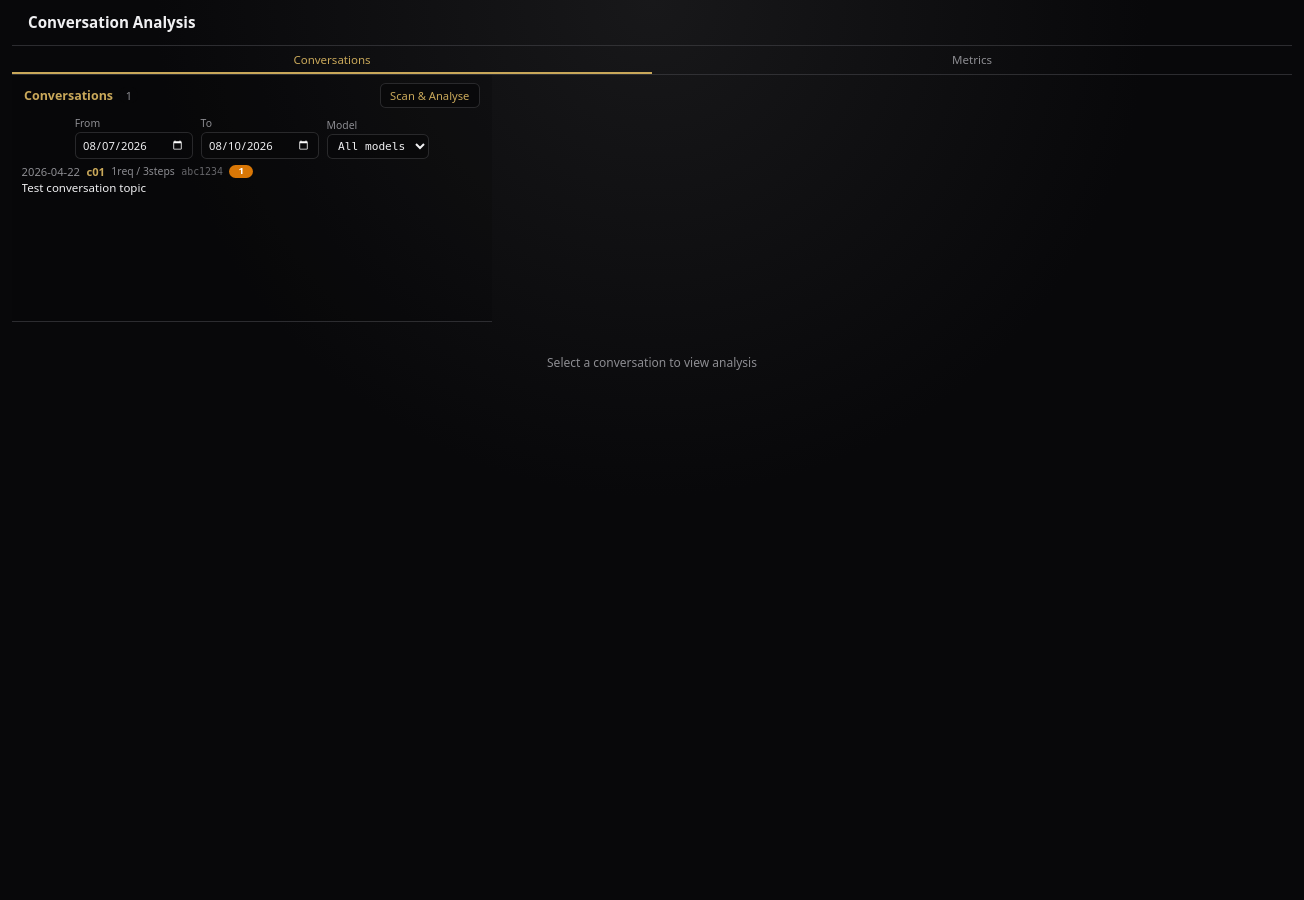
Test: 3i: dispute form accessibility › Escape key closes the open dispute form
Click the text "Test conversation topic" at (84, 188), box [22,180,146,195]
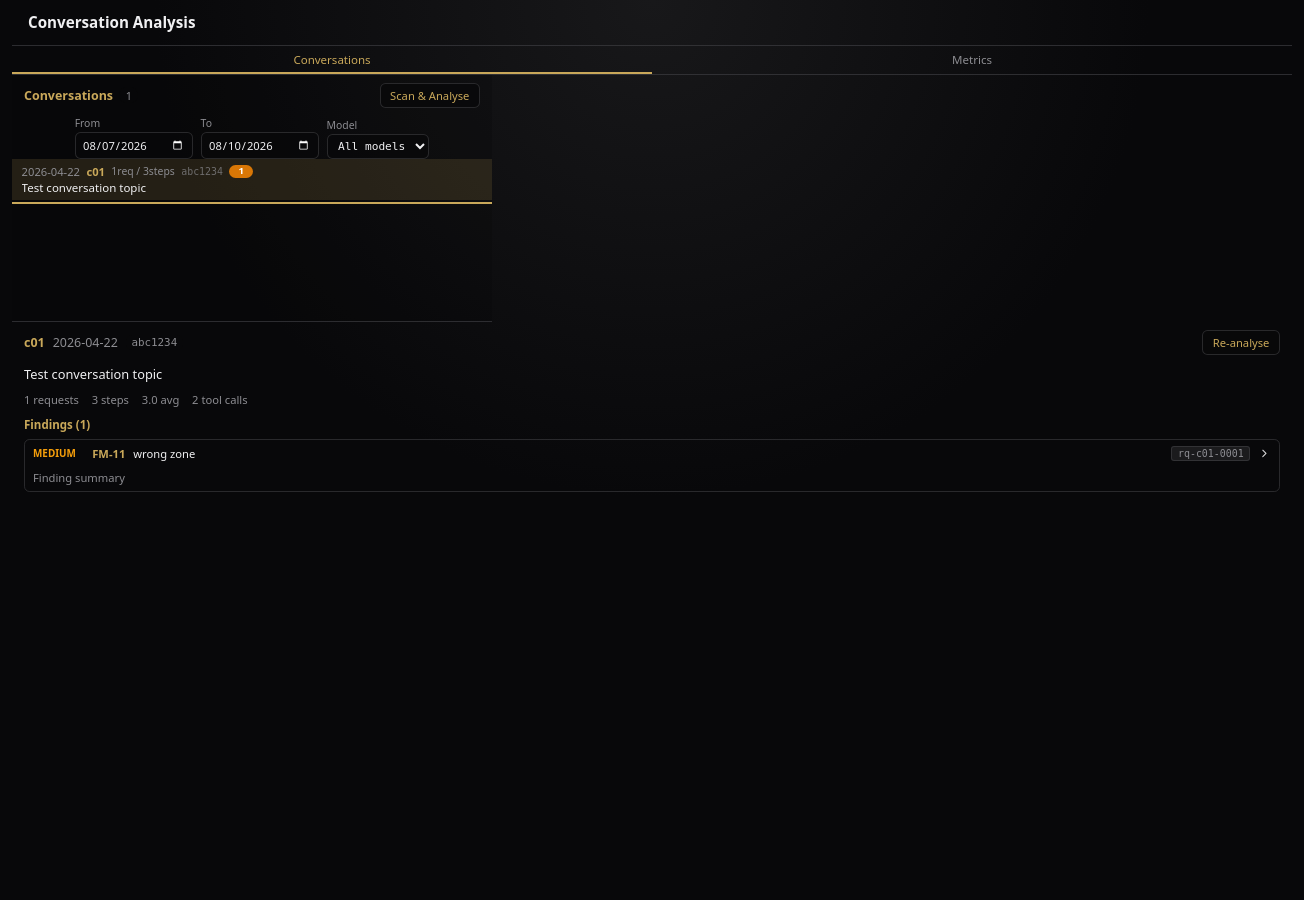
Click the text "wrong zone" at (164, 453), box [133,446,195,461]
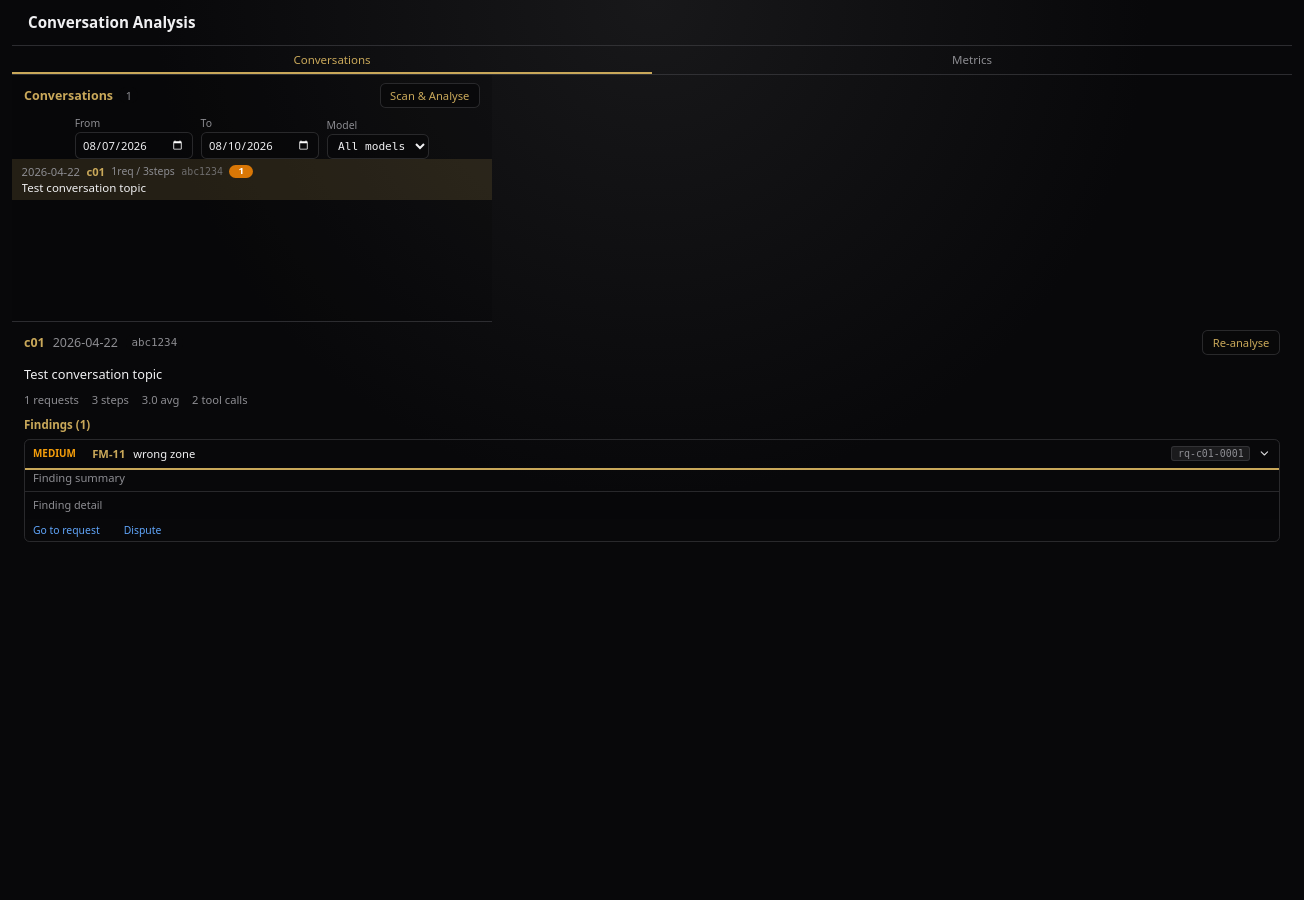
Click the button "Dispute" at (142, 530), box [116,519,169,541]
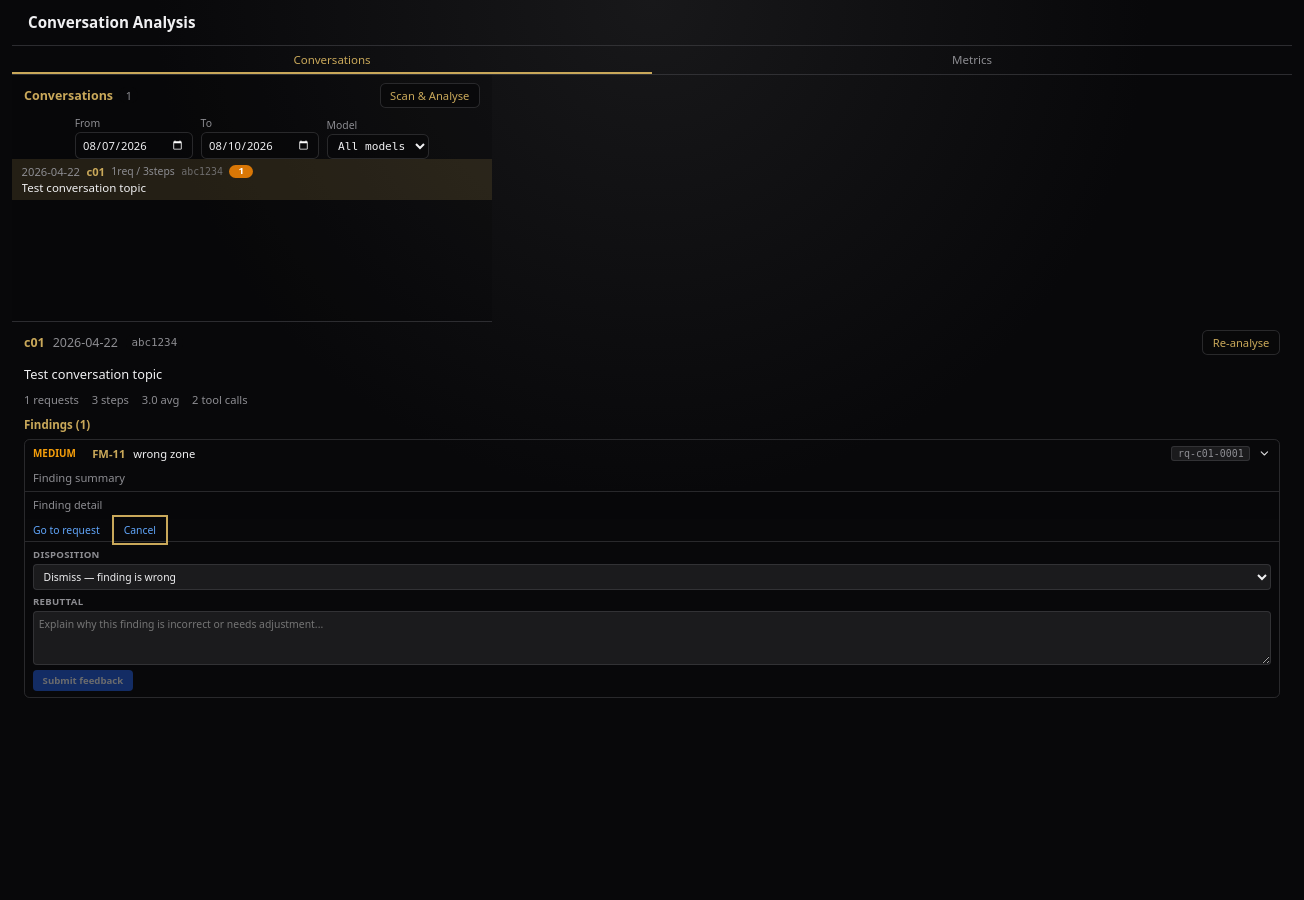
Result: the button "Cancel" is shown at [116,519,164,541]
Press Escape
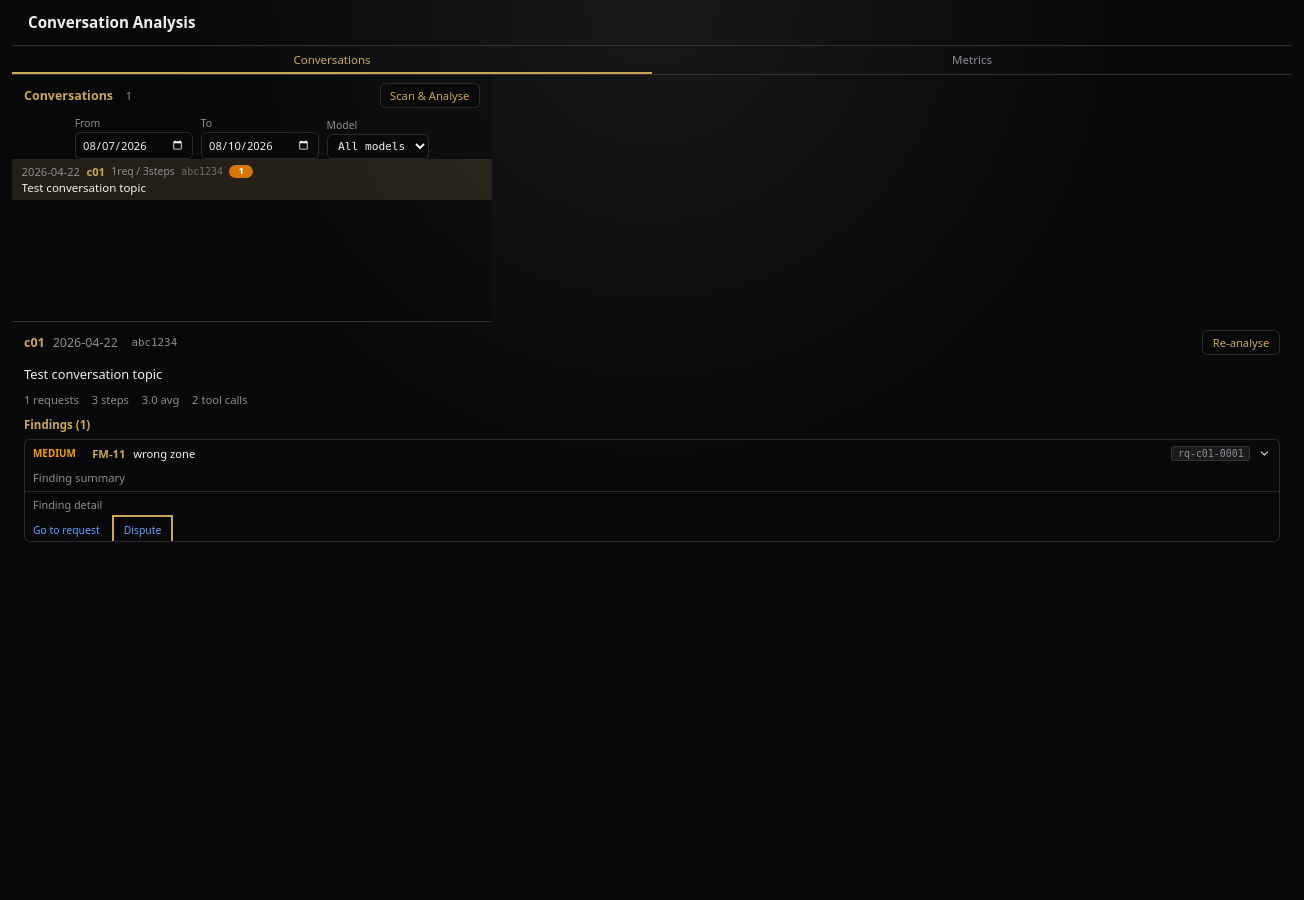
Result: the button "Dispute" is shown at [116,519,169,541]
